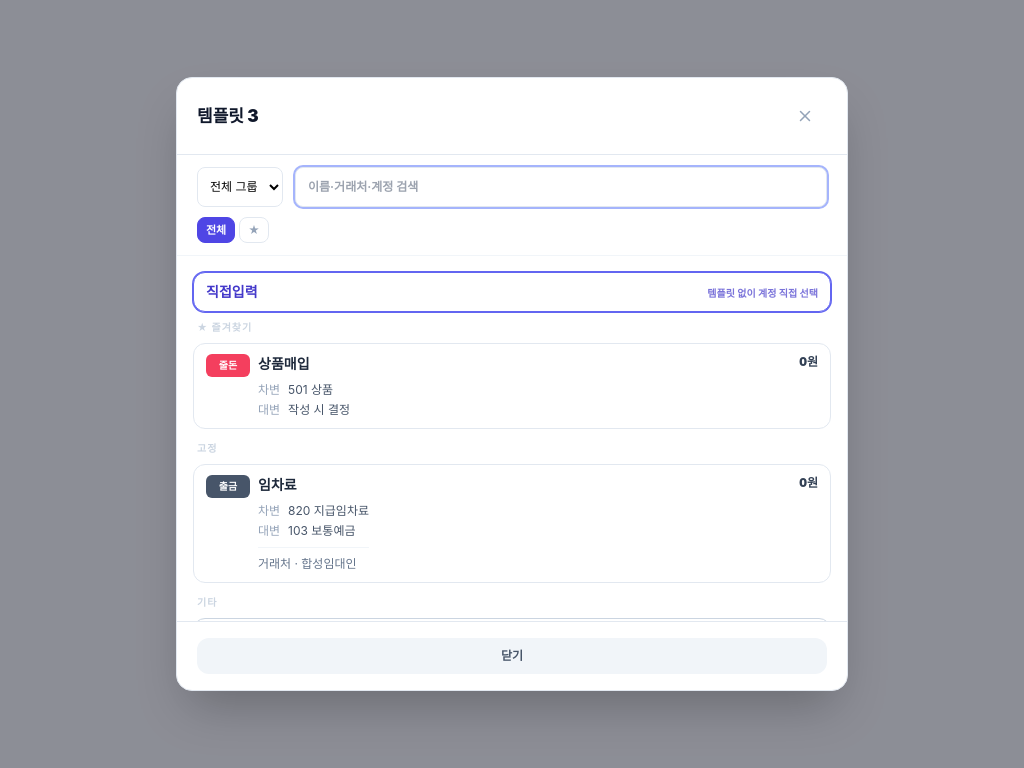
갈래 탭을 숨겨도 전체·즐겨찾기와 빈 검색 안내를 유지한다
Check: the button "전체" is shown, box [197, 217, 235, 243]
Check: the button "★" is shown, box [239, 217, 269, 243]
Type "없는검색어" into the field with placeholder "이름·거래처·계정 검색".
click(561, 187); type("없는검색어")  # box [295, 167, 827, 207]
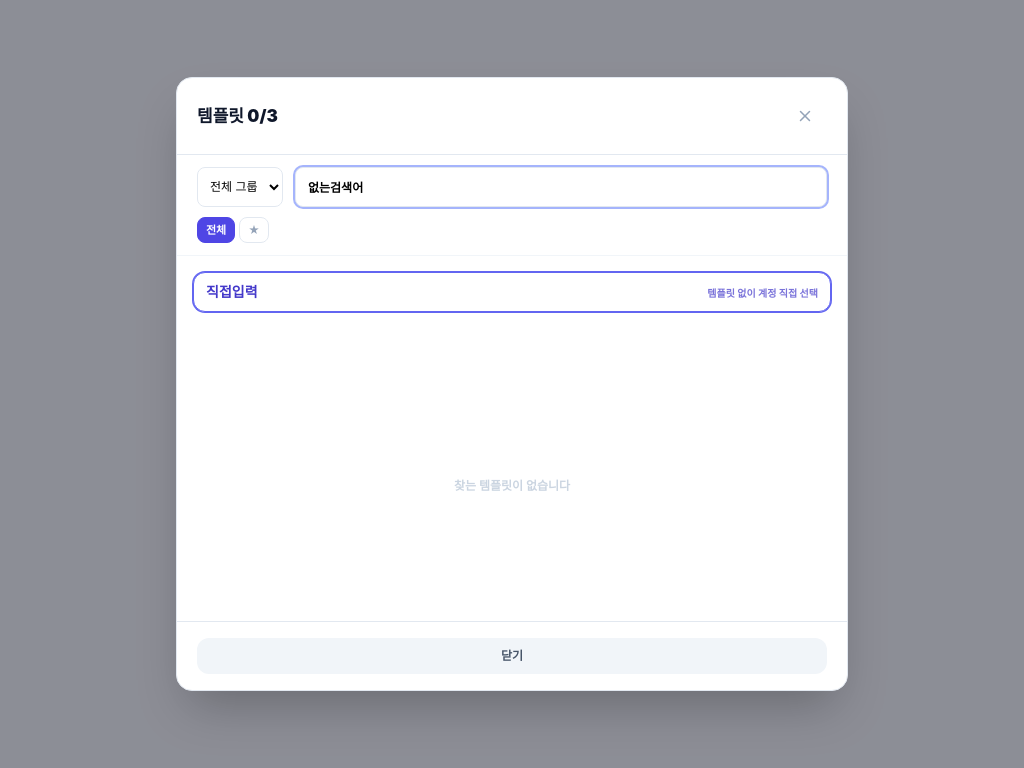
Check: the button "직접입력 템플릿 없이 계정 직접 선택" is shown, box [193, 272, 831, 312]
Check: the text "찾는 템플릿이 없습니다" is shown, box [454, 478, 570, 493]
